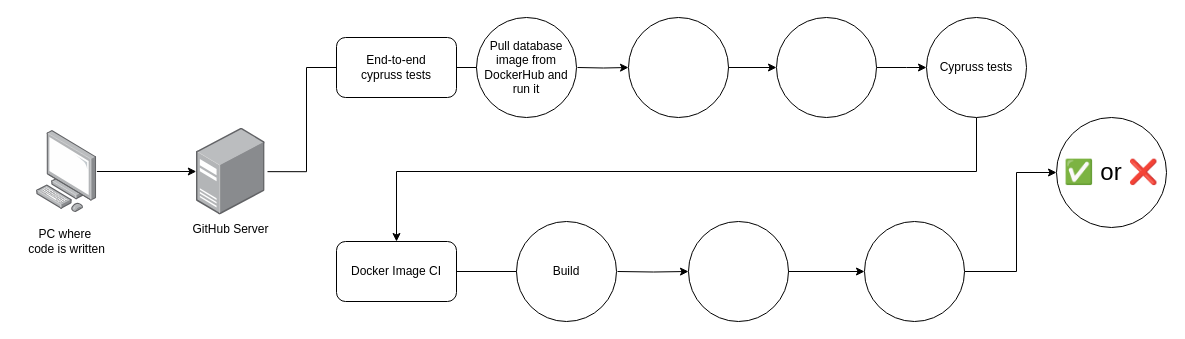
This 1185x339 diagram has some shape labels left out. The shapes that lost their labels are listed below. From the top down, each one's box as (x1, y1, x2, y2) in pixels, then its label:
(628, 16, 728, 118): Pull back-end image from DockerHub and run it
(776, 16, 876, 118): Build and run front-end
(688, 220, 788, 322): Build Docker Image
(864, 220, 964, 322): Push image to Docker Hub
